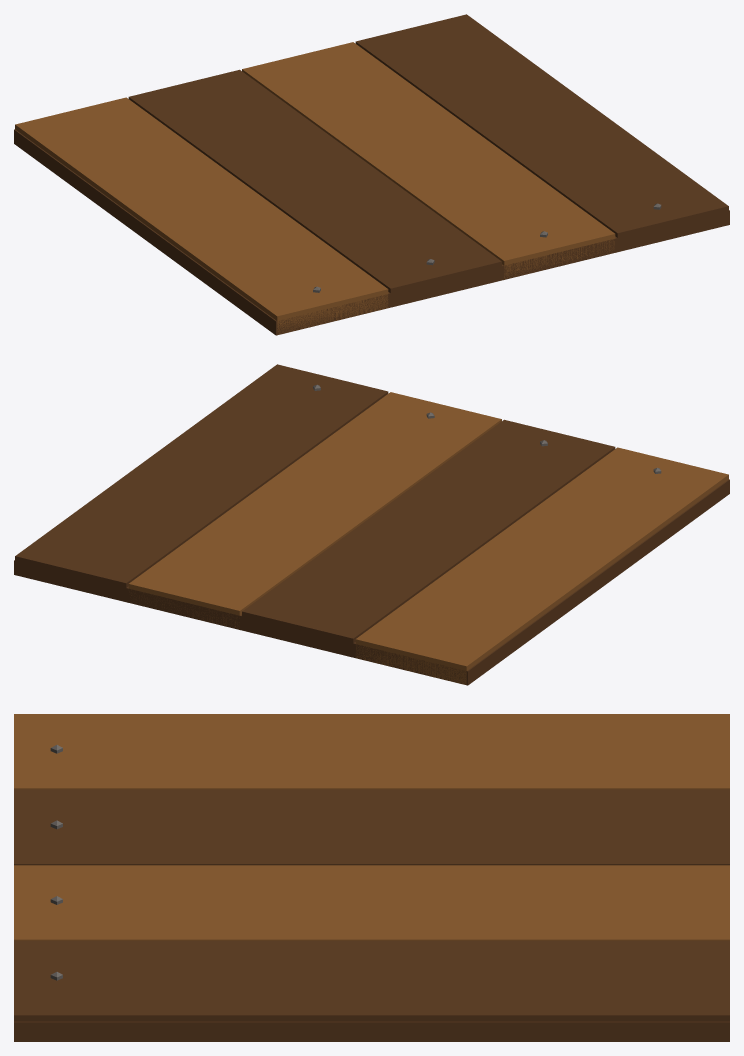
The model's file is PR_Building_Zemin.fbx.
3 views of the same model, one above another, from view 1: azimuth 30°, elevation 25°; view 2: azimuth 150°, elevation 25°; view 3: azimuth 270°, elevation 25° (orthographic). The views are drawn at different scales.
Parts seen in each view (by area): view 1: PR_Building_Zemin; view 2: PR_Building_Zemin; view 3: PR_Building_Zemin.
Part boxes in pixels (x1,y1,x2,y2): PR_Building_Zemin: (14,14,729,335); PR_Building_Zemin: (14,364,729,685); PR_Building_Zemin: (14,714,729,1041).
Size of the model in its own units: 1 by 0.05 by 1.
Materials: 1 (1 with a texture image).
